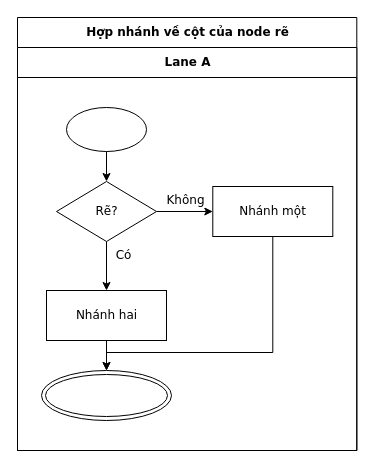
Some shapes in this 375 by 468 pixel diagram are drawn without their labels. The centre of each missing label's shape, as x and y in pixels:
"Hợp nhánh" goes at (x=106, y=395).
"Vào" goes at (x=106, y=129).
